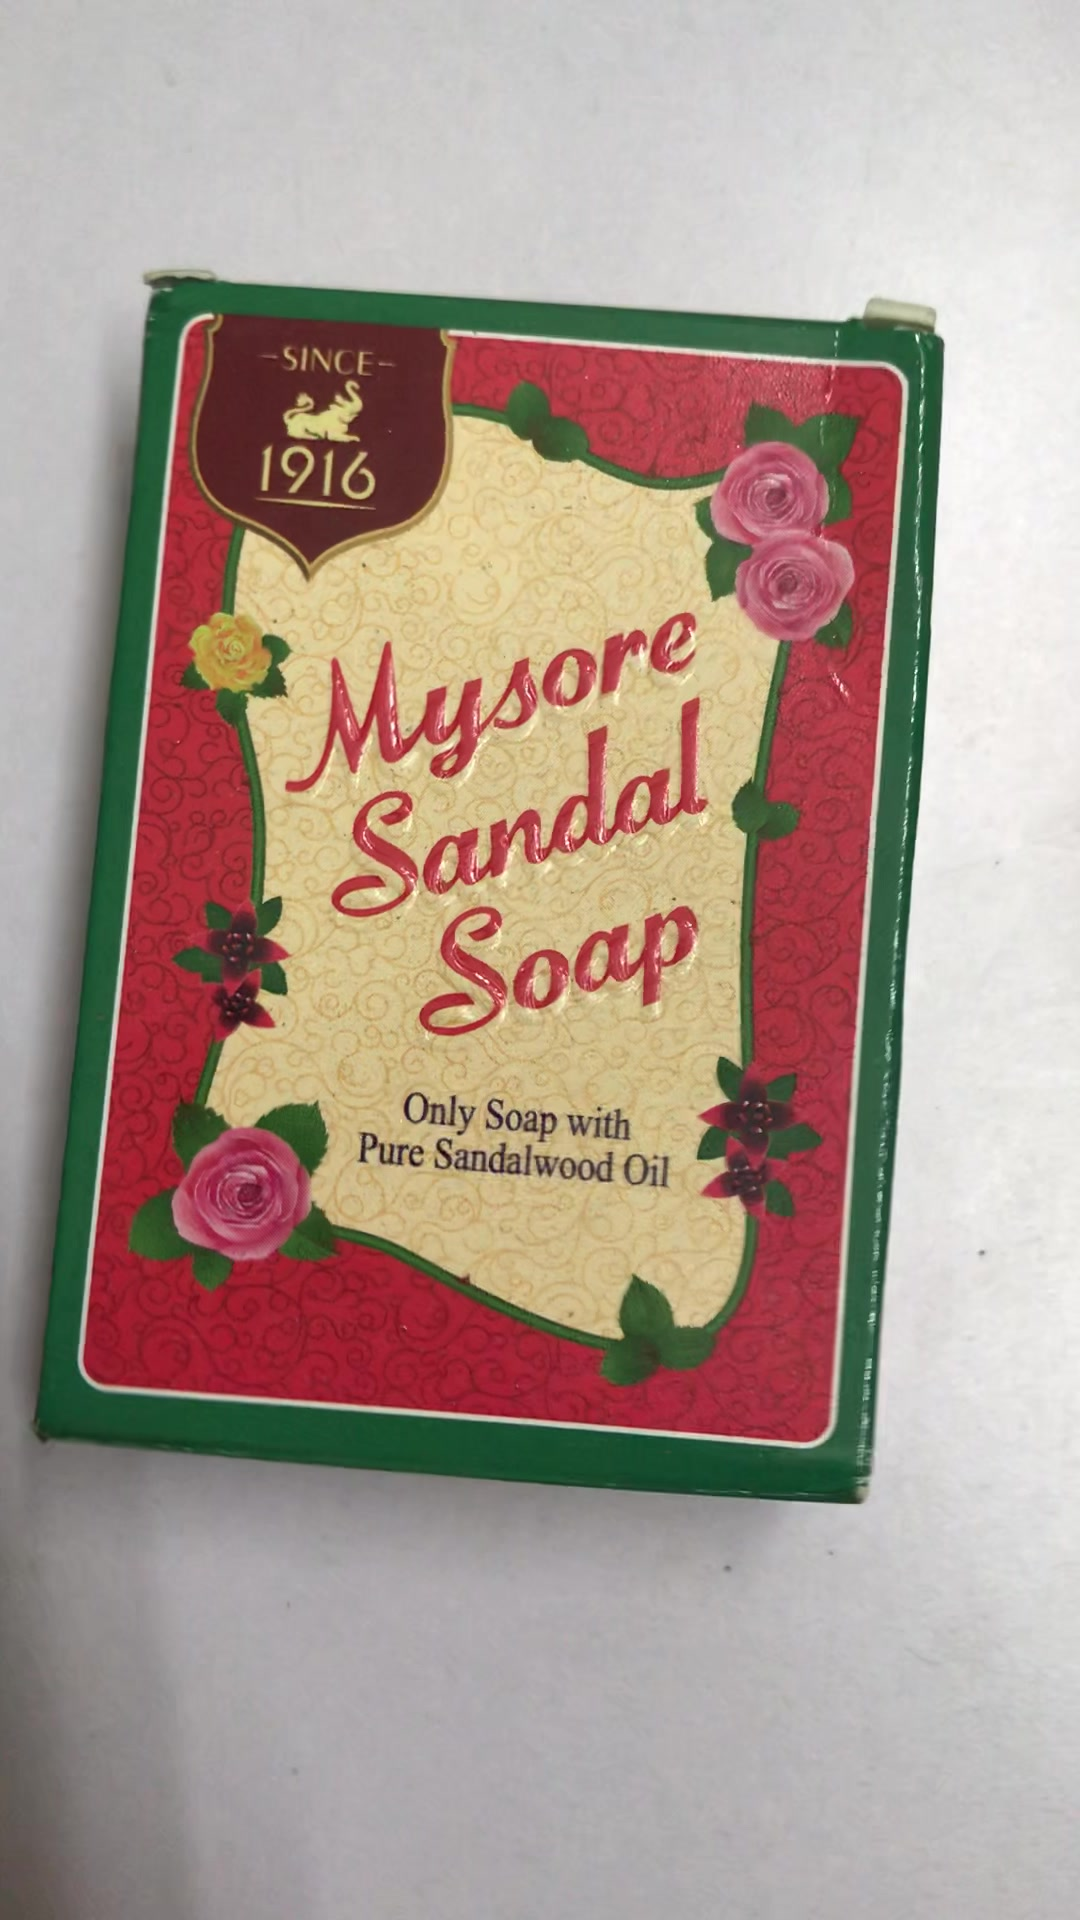mysore sandal soap: (40, 277, 943, 1506)
